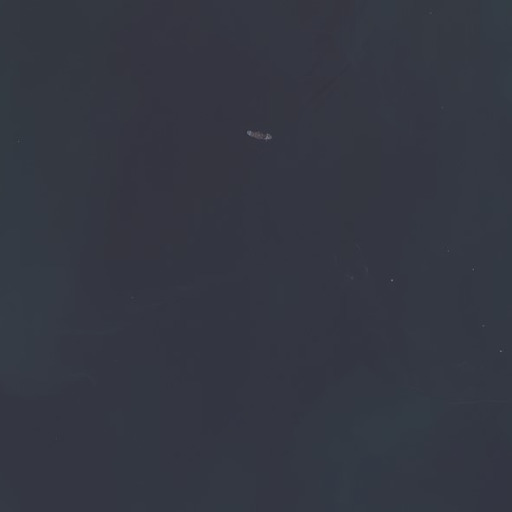ship: (243, 128, 277, 143)
